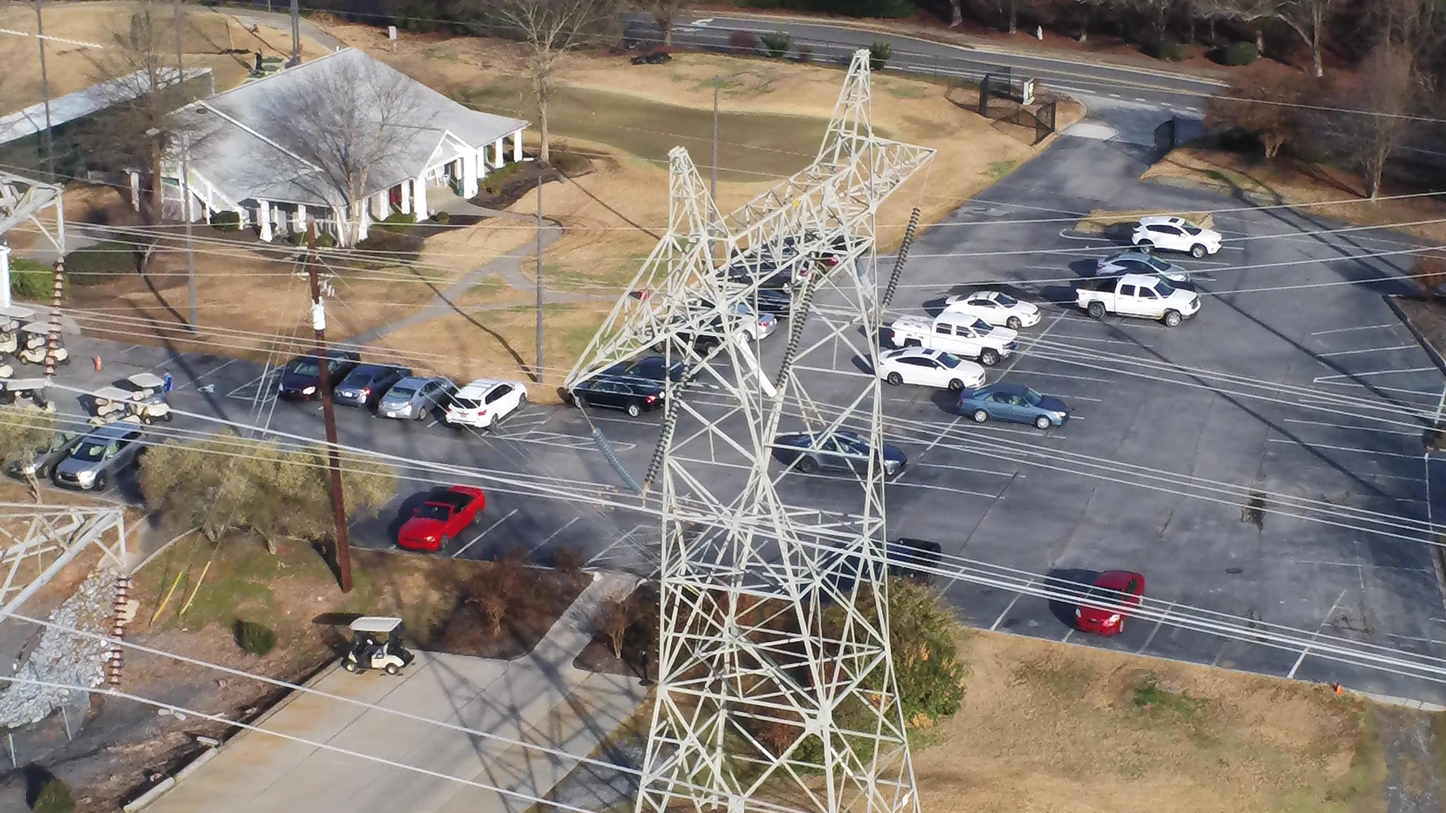power_tower: (561, 51, 934, 812), (0, 501, 133, 694), (0, 171, 69, 390)
